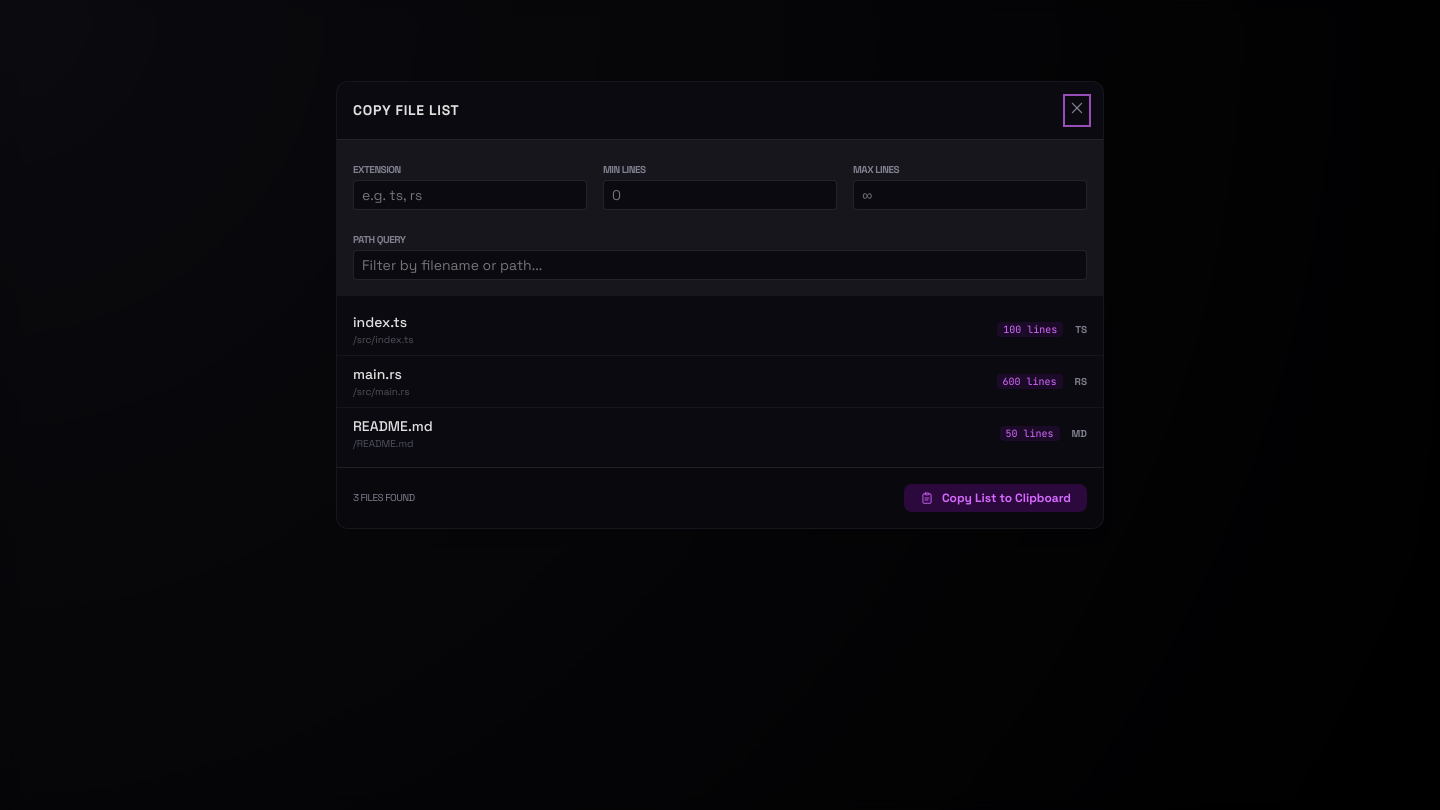
Test: FileSelector › filters by extension
Type "rs" into the field with placeholder "e.g. ts, rs" at (470, 194), box [353, 180, 587, 210]
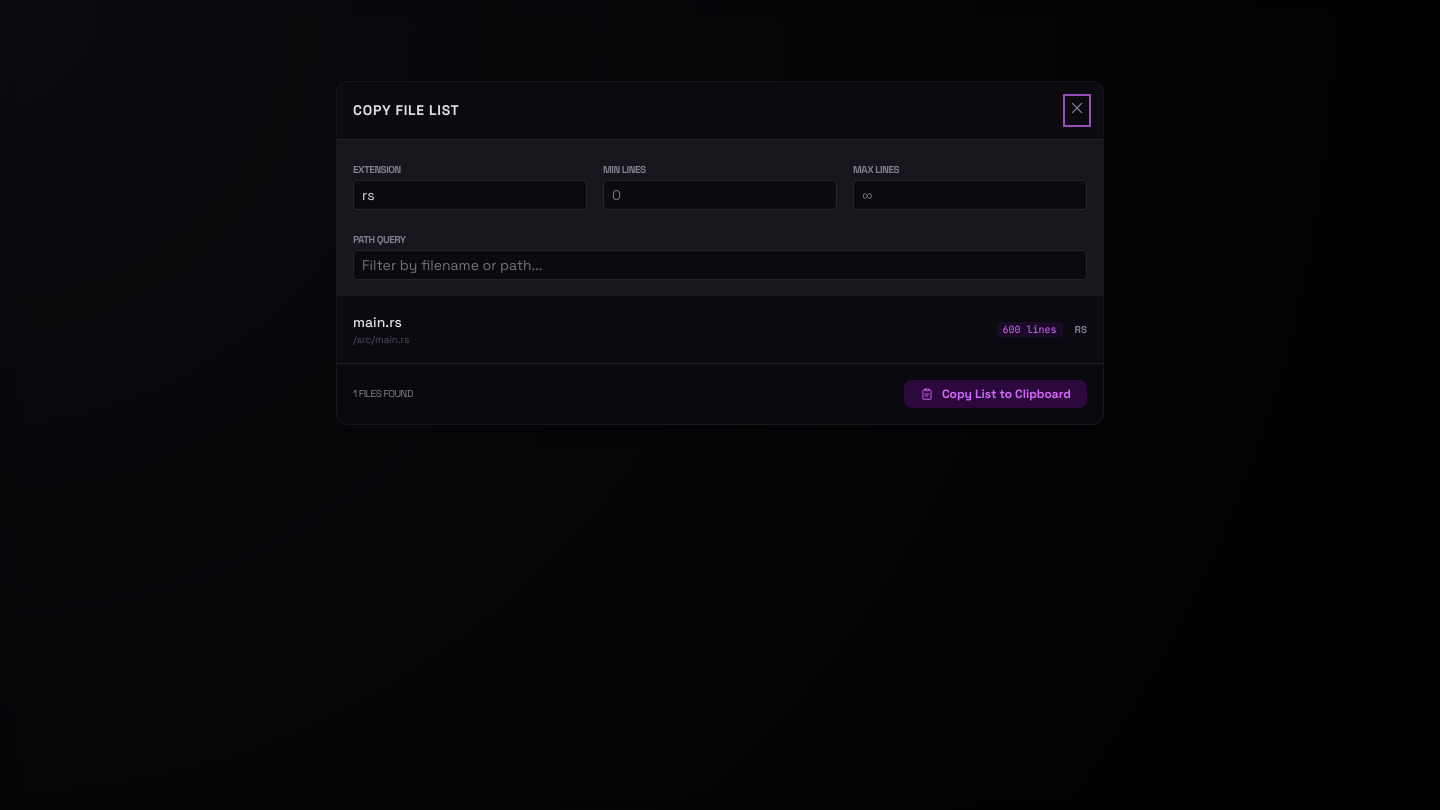
Expected: the text "main.rs" is shown, [353, 312, 409, 332]
Result: the text "index.ts" is gone
